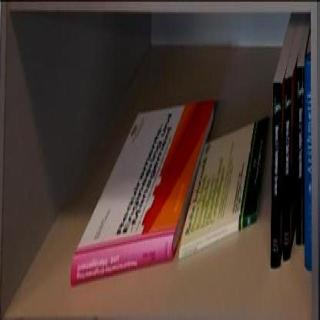book-spine: (62, 225, 180, 286), (174, 211, 259, 259), (270, 82, 282, 268), (304, 55, 312, 271), (283, 75, 292, 261), (295, 65, 304, 244)
